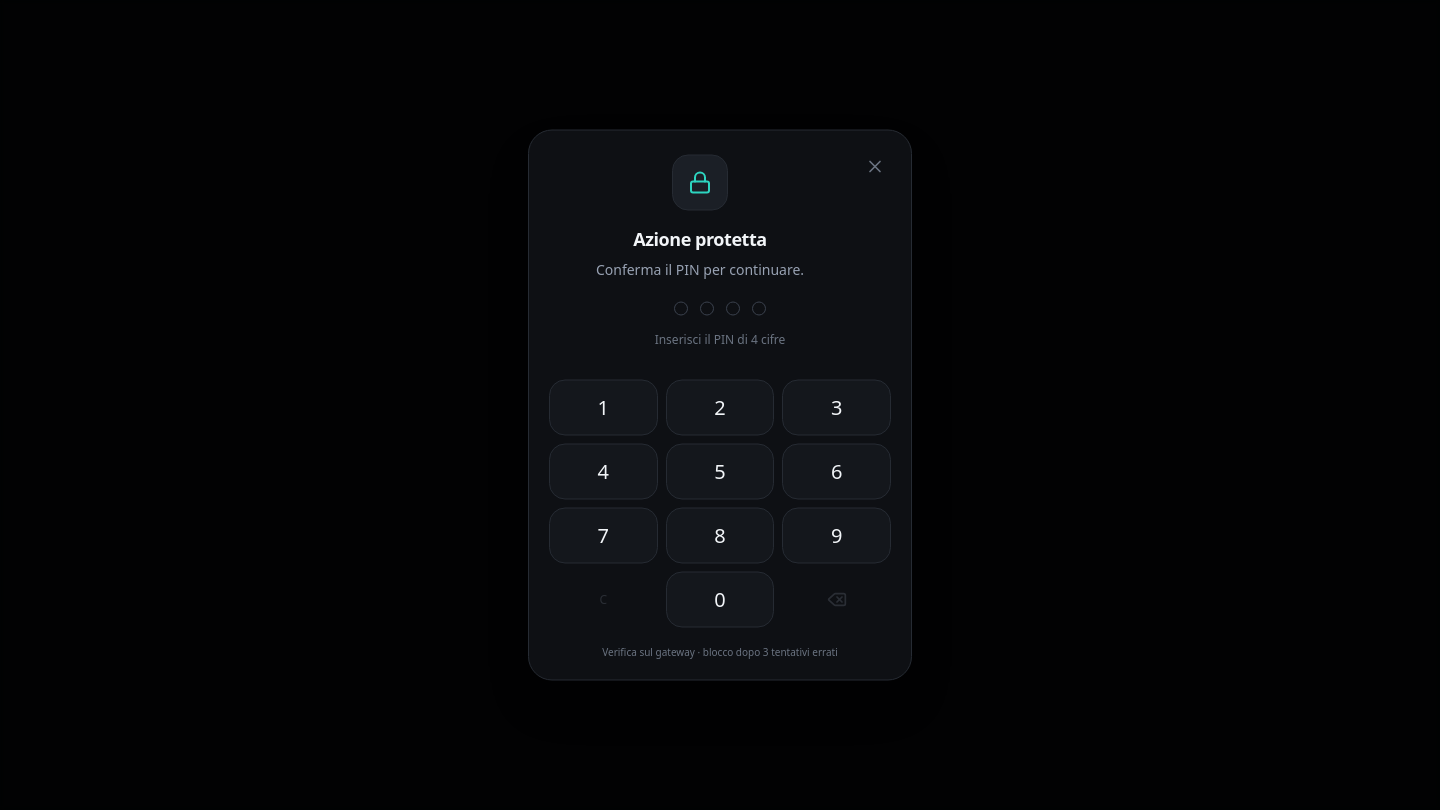
PinProtectionDialog › mostra errore, tentativi residui e shake quando il PIN è errato
Click the button "1": (603, 407) left=549, top=379, right=658, bottom=435
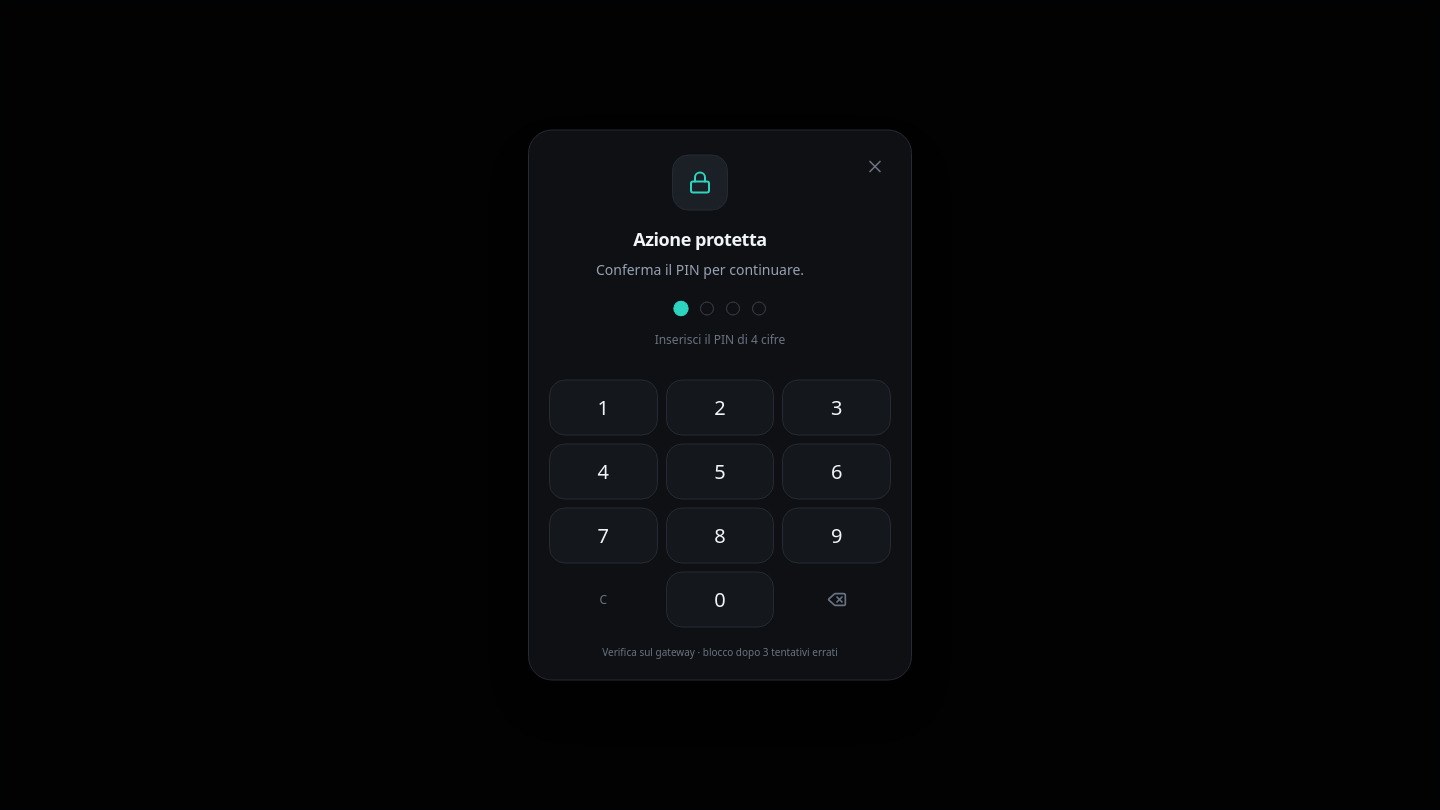
Click the button "1": (603, 407) left=549, top=379, right=658, bottom=435
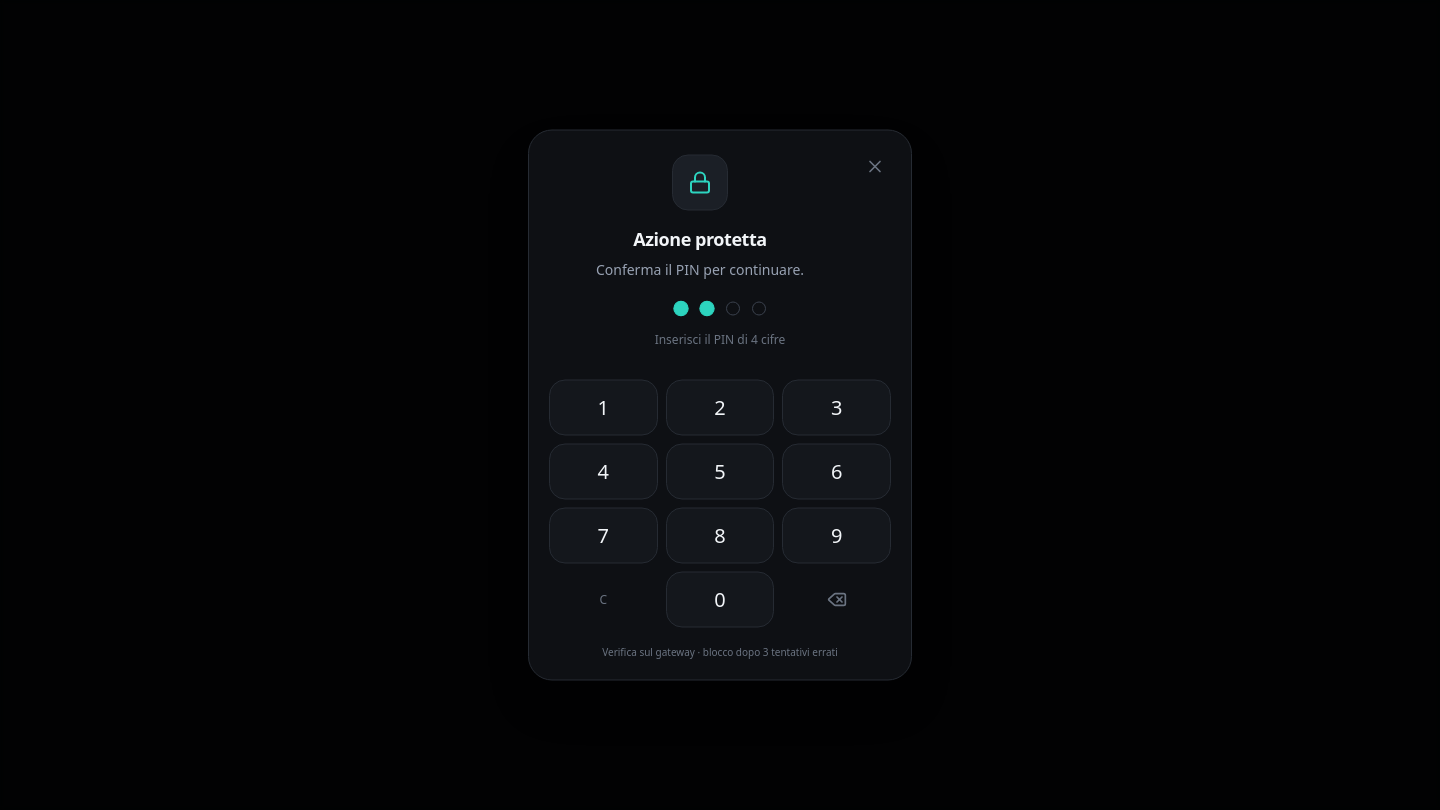
Click the button "1": (603, 407) left=549, top=379, right=658, bottom=435
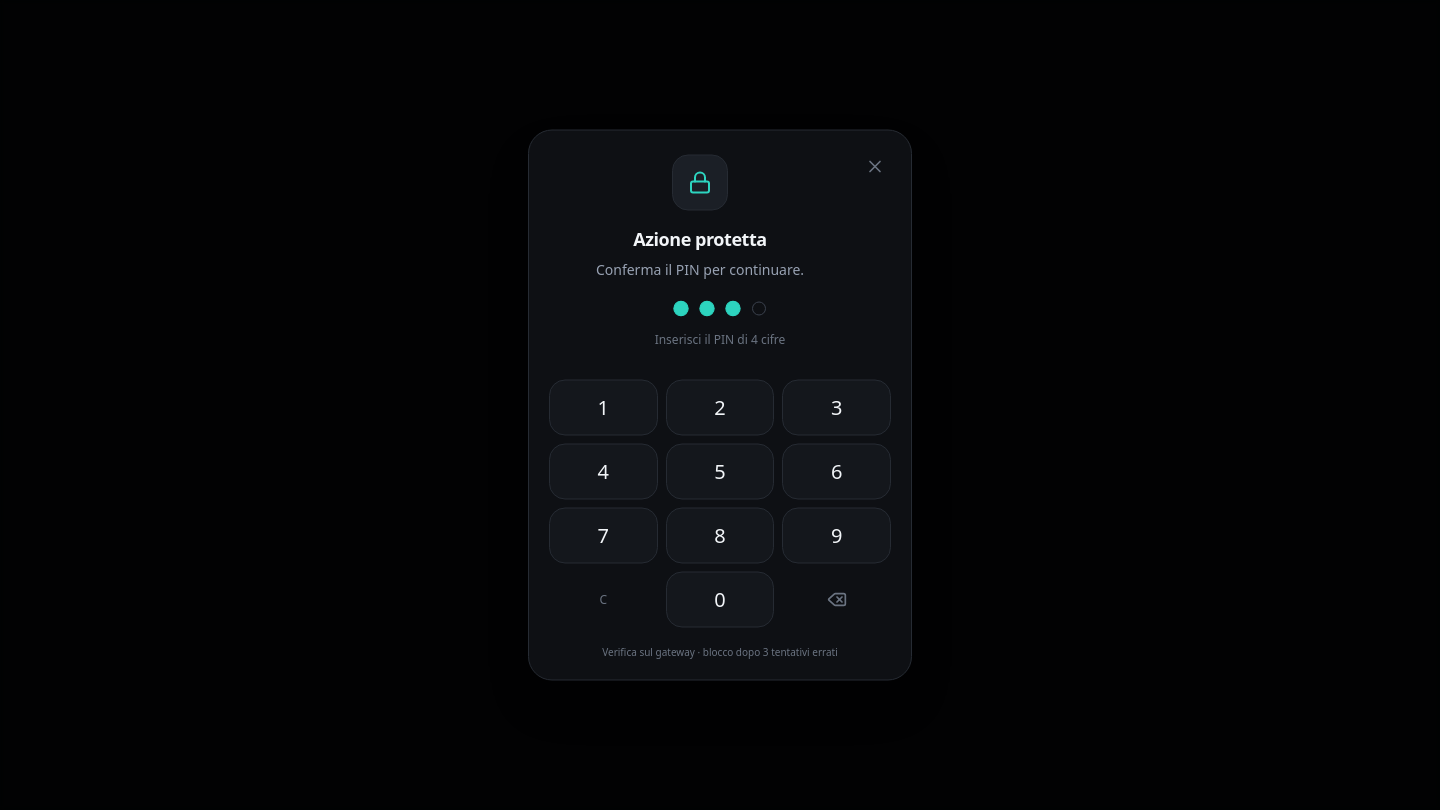
Click the button "1": (603, 407) left=549, top=379, right=658, bottom=435
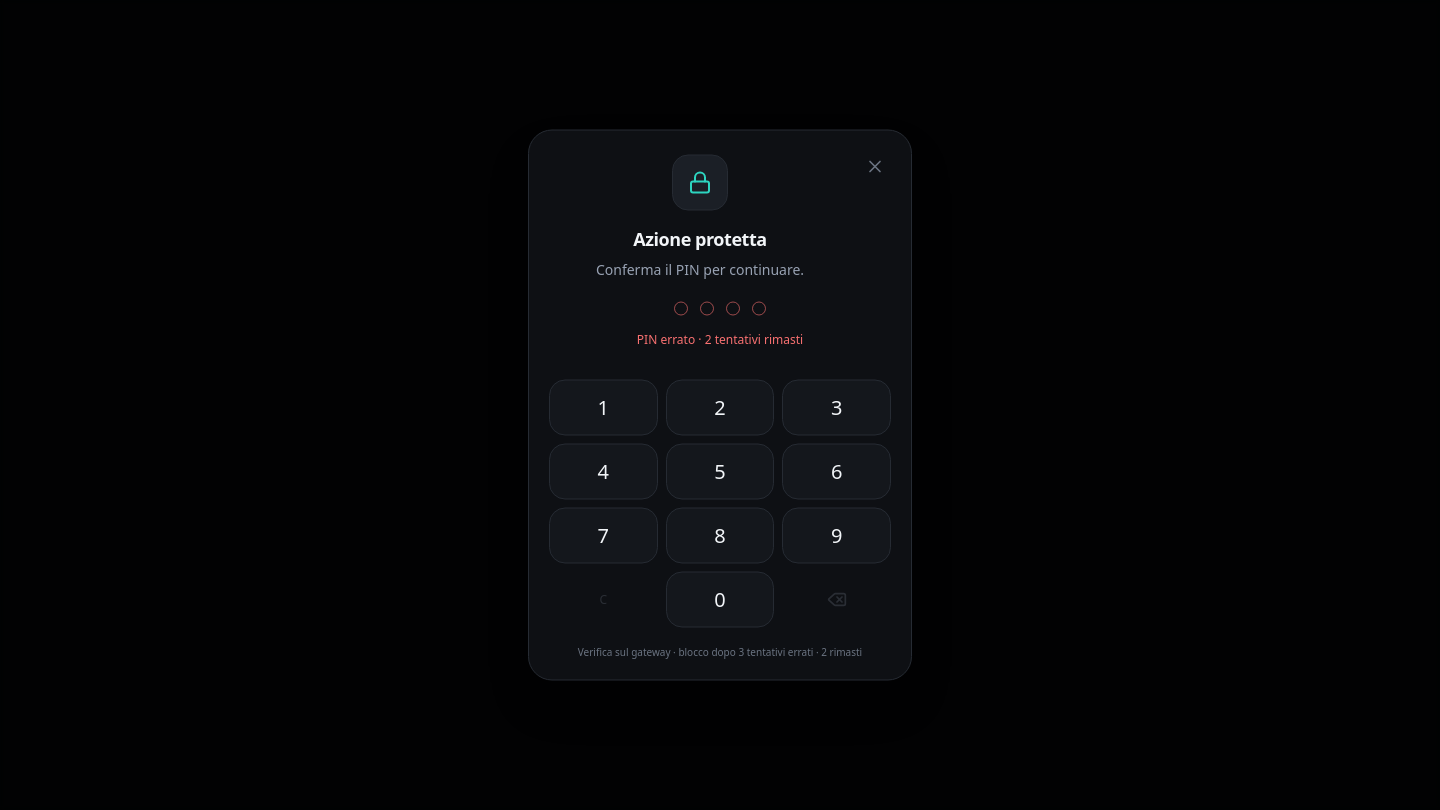
Expected: the text "PIN errato · 2 tentativi rimasti" is shown, left=637, top=330, right=803, bottom=347
